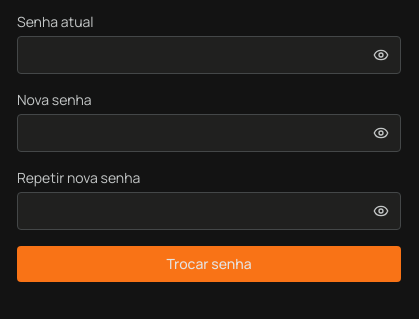
Test: ChangePasswordForm › não envia nada quando a confirmação não confere
Type "senha-atual-123" into the password field labelled "Senha atual" at (209, 55), box [17,36,401,74]
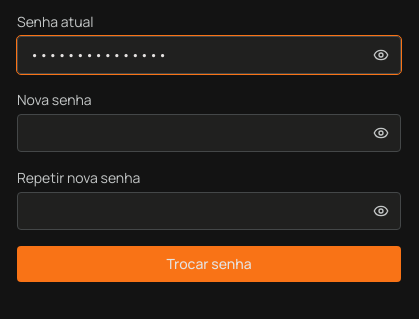
Type "uma-senha-nova-forte" into the password field labelled "Nova senha" at (209, 133), box [17,114,401,152]
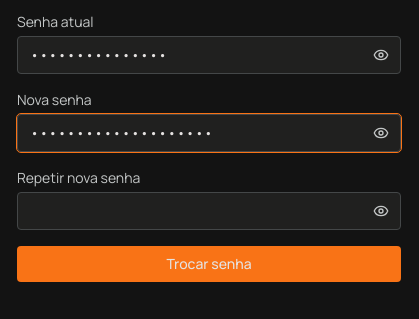
Type "outra-senha-qualquer" into the password field labelled "Repetir nova senha" at (209, 211), box [17,192,401,230]
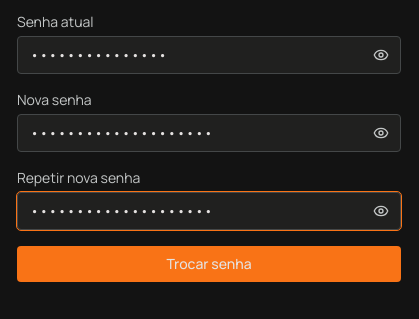
Click the button "Trocar senha" at (209, 264), box [17,246,401,282]
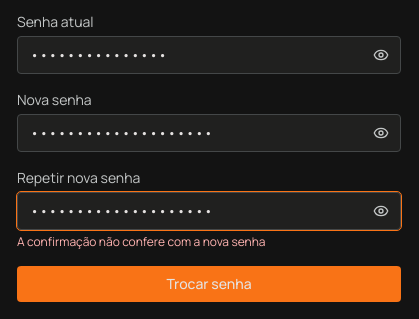
Now the text "A confirmação não confere com a nova senha" is shown, box [17,233,266,250]
